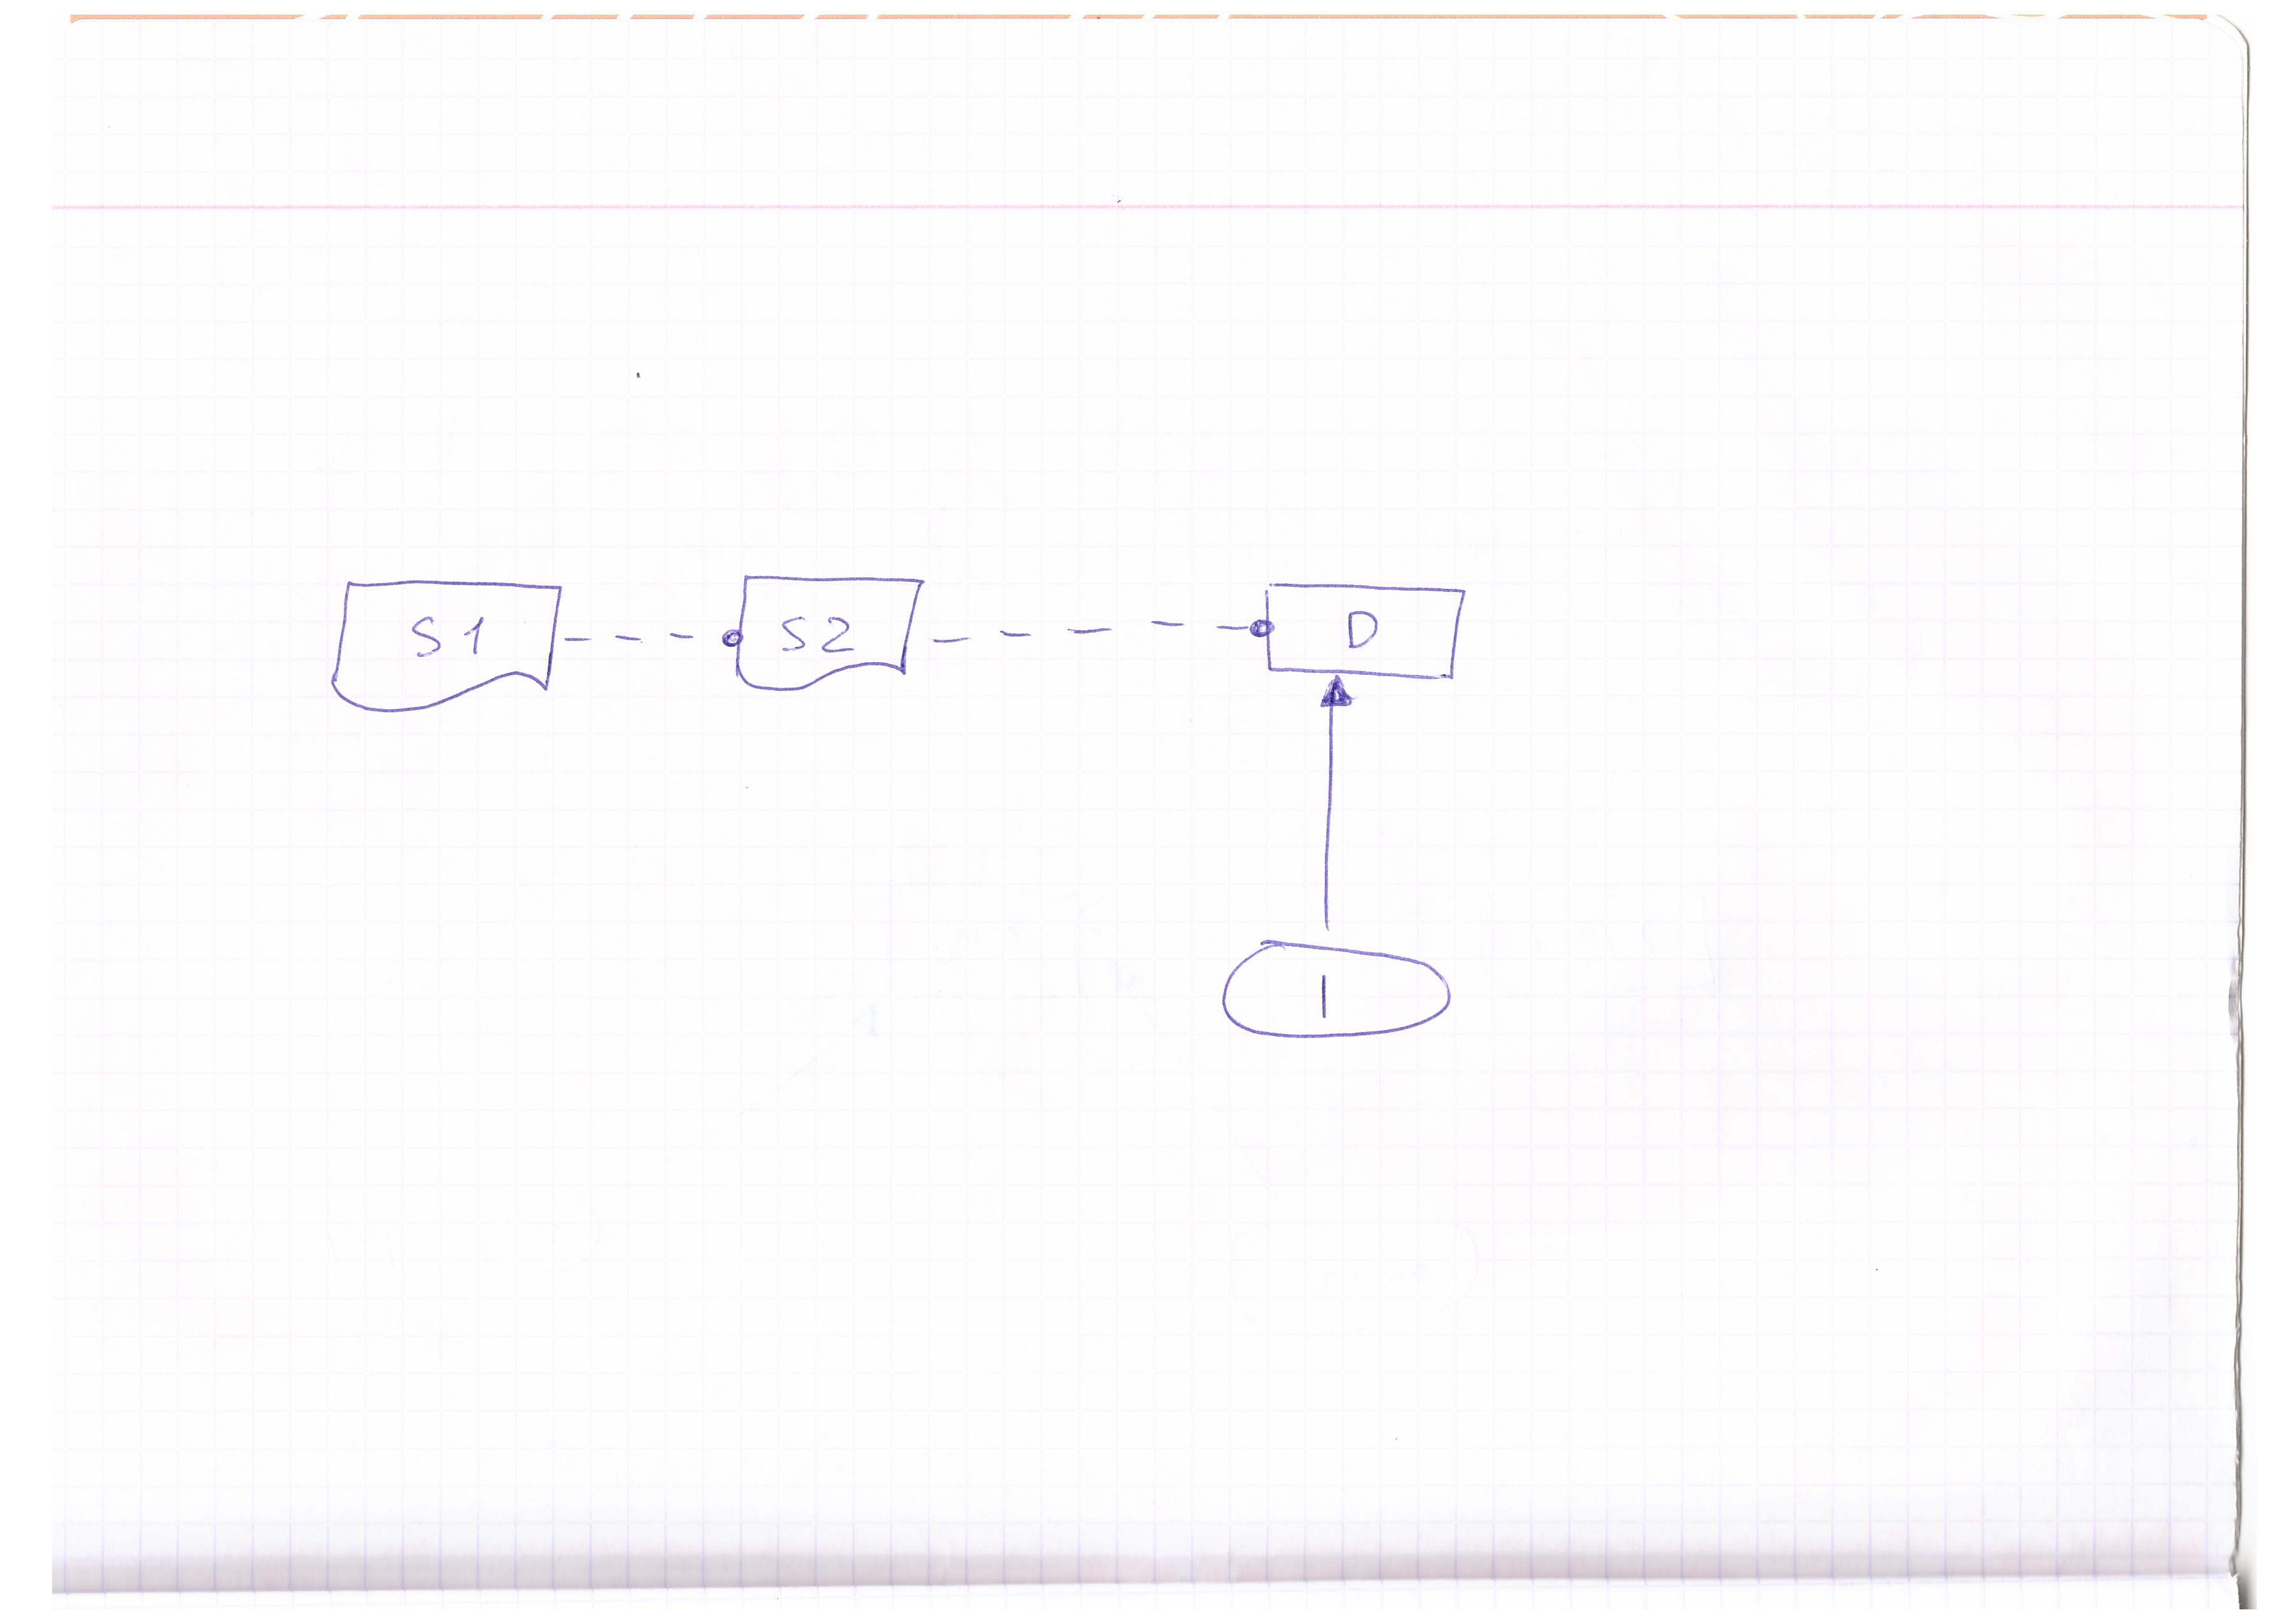arrow_authority_requirement: (928, 610, 1284, 649), (557, 617, 754, 659)
arrow_information_requirement: (1299, 671, 1362, 940)
node_decision: (1253, 566, 1474, 684)
node_input_data: (1176, 932, 1487, 1060)
node_knowledge_source: (306, 566, 564, 715), (729, 568, 937, 710)
text: (380, 603, 501, 670), (770, 598, 865, 659), (1286, 958, 1353, 1028), (1328, 603, 1393, 656)
